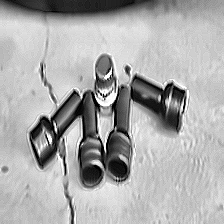cracked: (35, 10, 58, 108), (56, 135, 77, 224)
